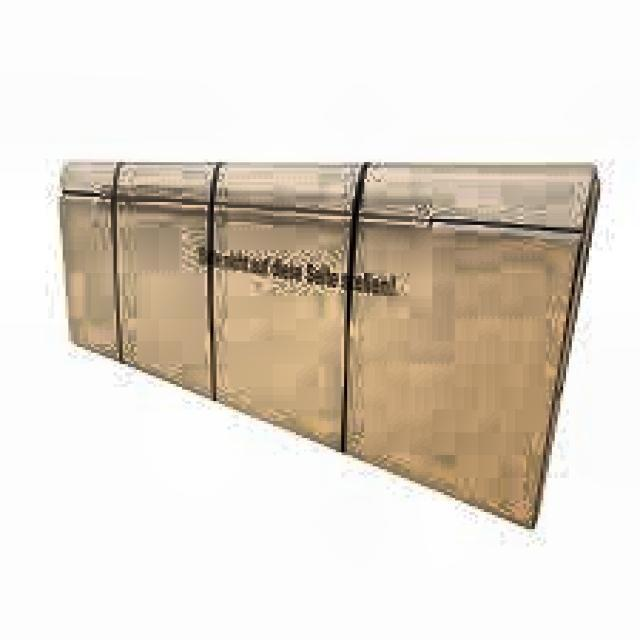cardboard: (57, 156, 600, 530)
